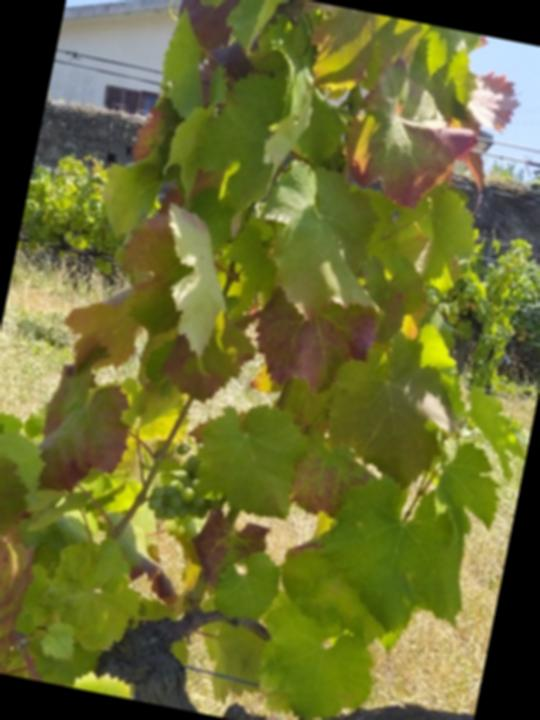grape: (140, 433, 224, 536)
